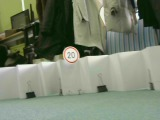speed_20: (60, 46, 80, 64)
